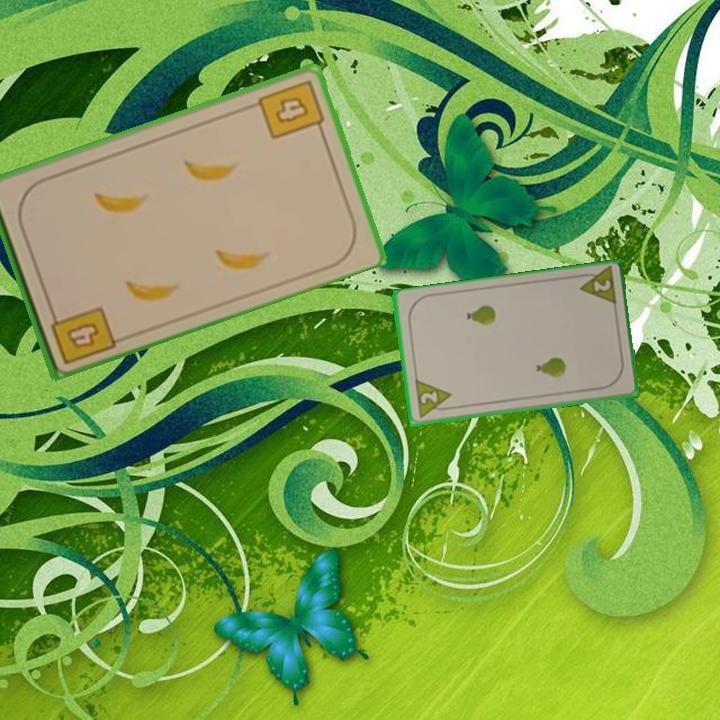2p: (573, 265, 619, 309), (411, 377, 456, 421)
4b: (254, 76, 327, 142), (46, 302, 118, 367)
